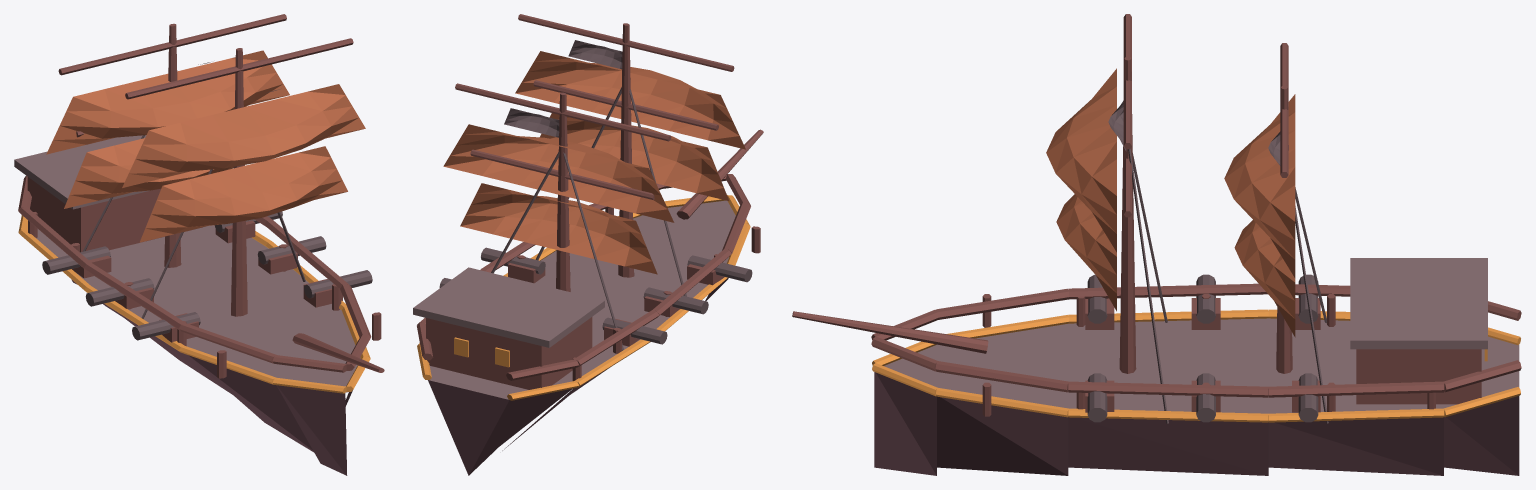
File: event_halloween_npc_raider_01.glb
3 renders of one model, left to right at view 1: azimuth 30°, elevation 25°; view 2: azimuth 150°, elevation 25°; view 3: azimuth 270°, elevation 25°, orthographic. The views are drawn at different scales.
Parts seen in each view (by area): view 1: event_halloween_npc_raider_01_Complete; view 2: event_halloween_npc_raider_01_Complete; view 3: event_halloween_npc_raider_01_Complete.
Part boxes in pixels (x1,y1,x2,y2): event_halloween_npc_raider_01_Complete: (14,14,384,475); event_halloween_npc_raider_01_Complete: (413,14,763,475); event_halloween_npc_raider_01_Complete: (792,14,1521,475).
Bounding box in the file's own units: 3.49 × 4.85 × 7.69.
